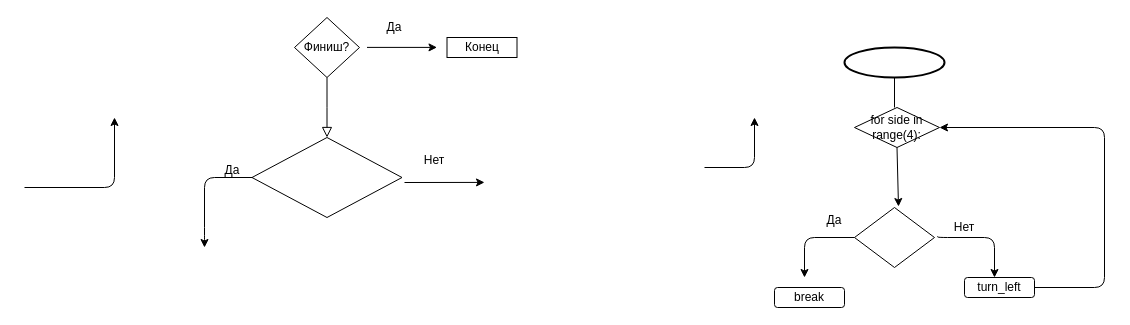
Some shapes in this 1130 by 325 pixel diagram are drawn without their labels. Here are the shapes that lost their labels. From the top down, the centre of each, then its label:
At (894,62): "f: turn".
At (326,177): "справа стена".
At (894,237): "Стена с права?".
